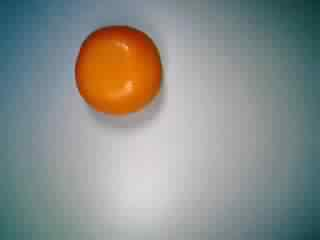orange: (72, 20, 167, 122)
